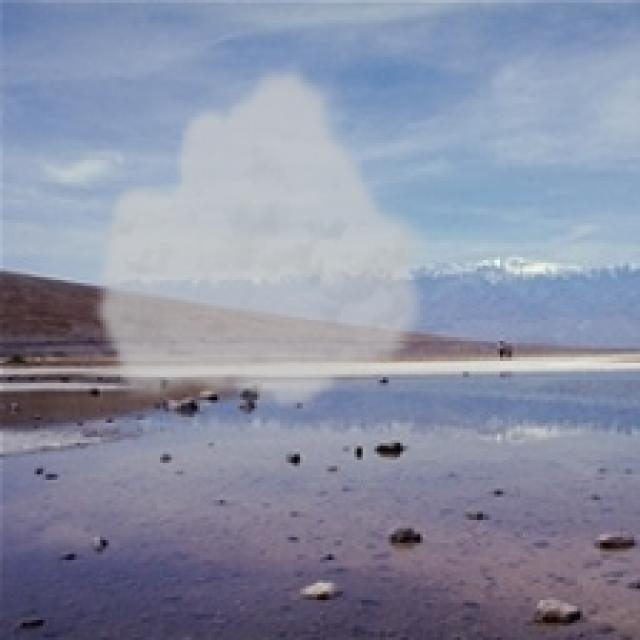smoke: (92, 57, 434, 412)
